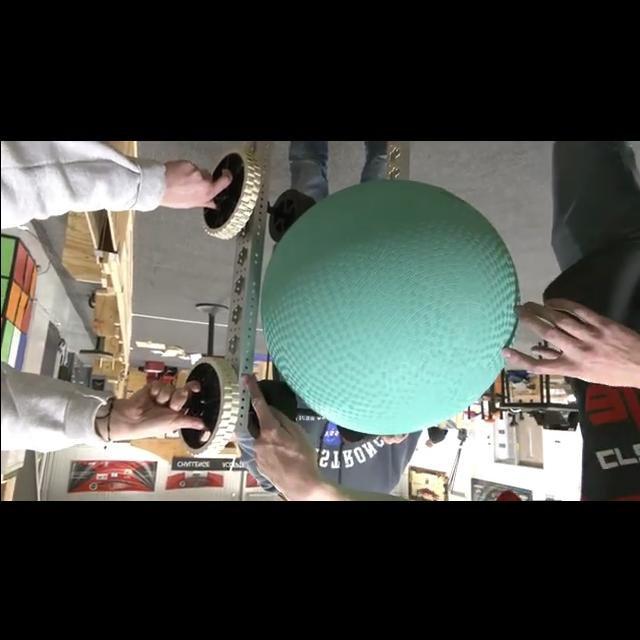ALGAE: (258, 178, 520, 436)
